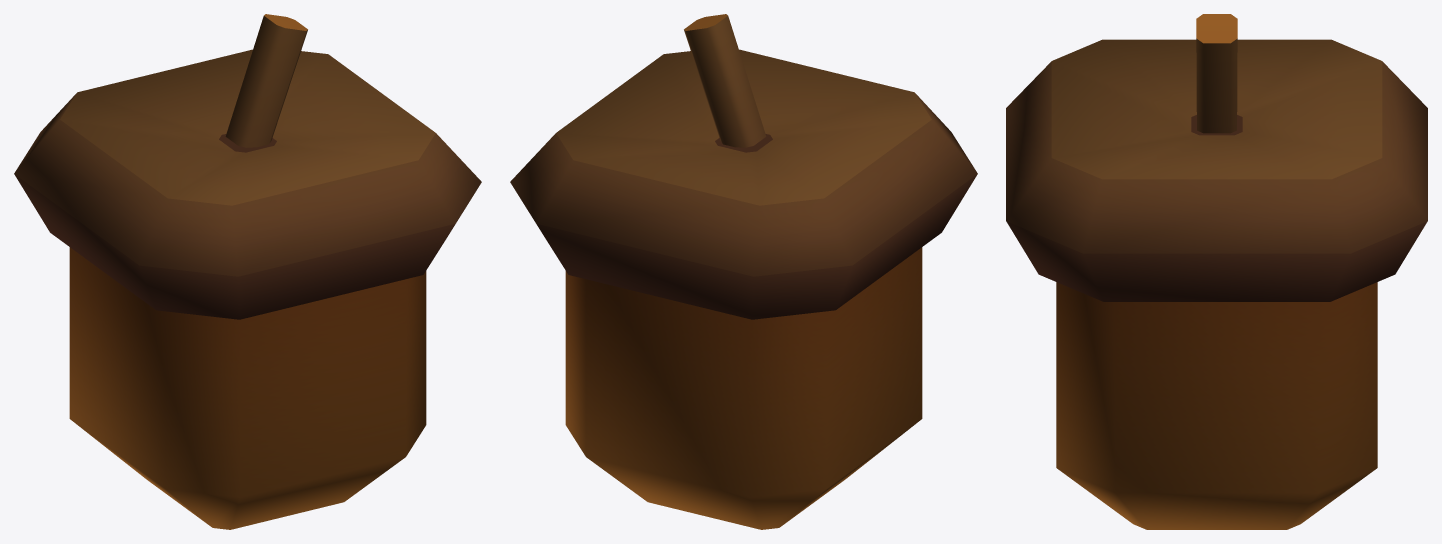
File: acorn.fbx
3 views of the same model, side by side, from view 1: azimuth 30°, elevation 25°; view 2: azimuth 150°, elevation 25°; view 3: azimuth 270°, elevation 25° (orthographic). The views are drawn at different scales.
Parts seen in each view (by area): view 1: acorn; view 2: acorn; view 3: acorn.
Boxes of the visible parts, x1,y1,x2,y2 form: acorn: (14,14,481,529); acorn: (510,14,977,529); acorn: (1006,14,1427,529).
Bounding box in the file's own units: 0.3009 × 0.3874 × 0.3009.
